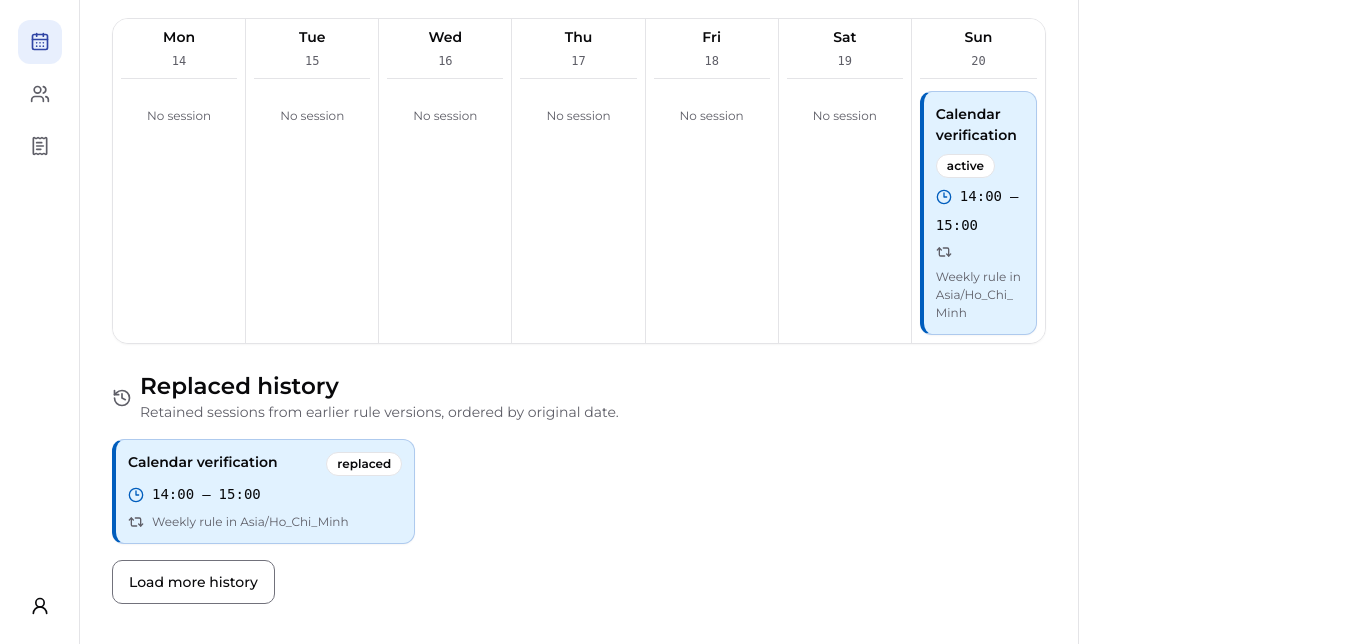
Test: SchedulePage › AC-12 and AC-15 append replaced history pages without losing the first page
(page scrolled)
Click the button "Load more history": {"x": 193, "y": 582} [112,560,275,604]
(page scrolled)
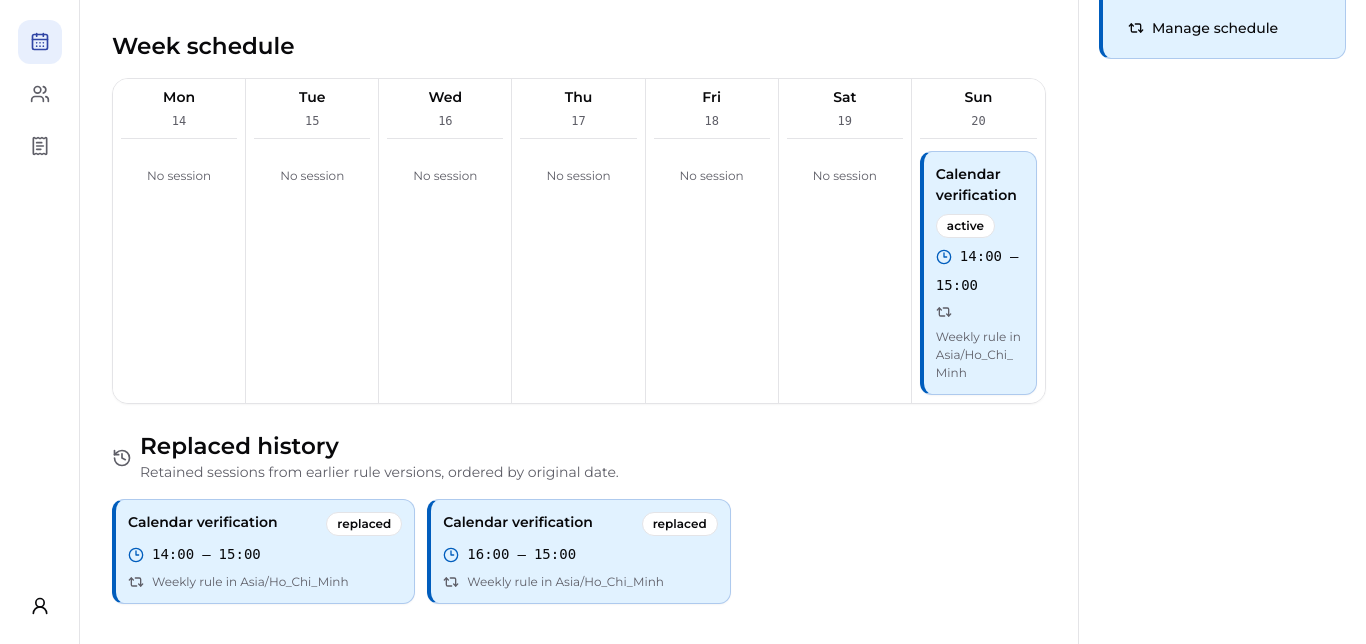
Result: the button with aria-label "session at 16:00" is shown at [427,499,731,604]
Result: the number of buttons named "session at 14:00" is 2 at [920,151,1037,395]; [112,499,415,604]
